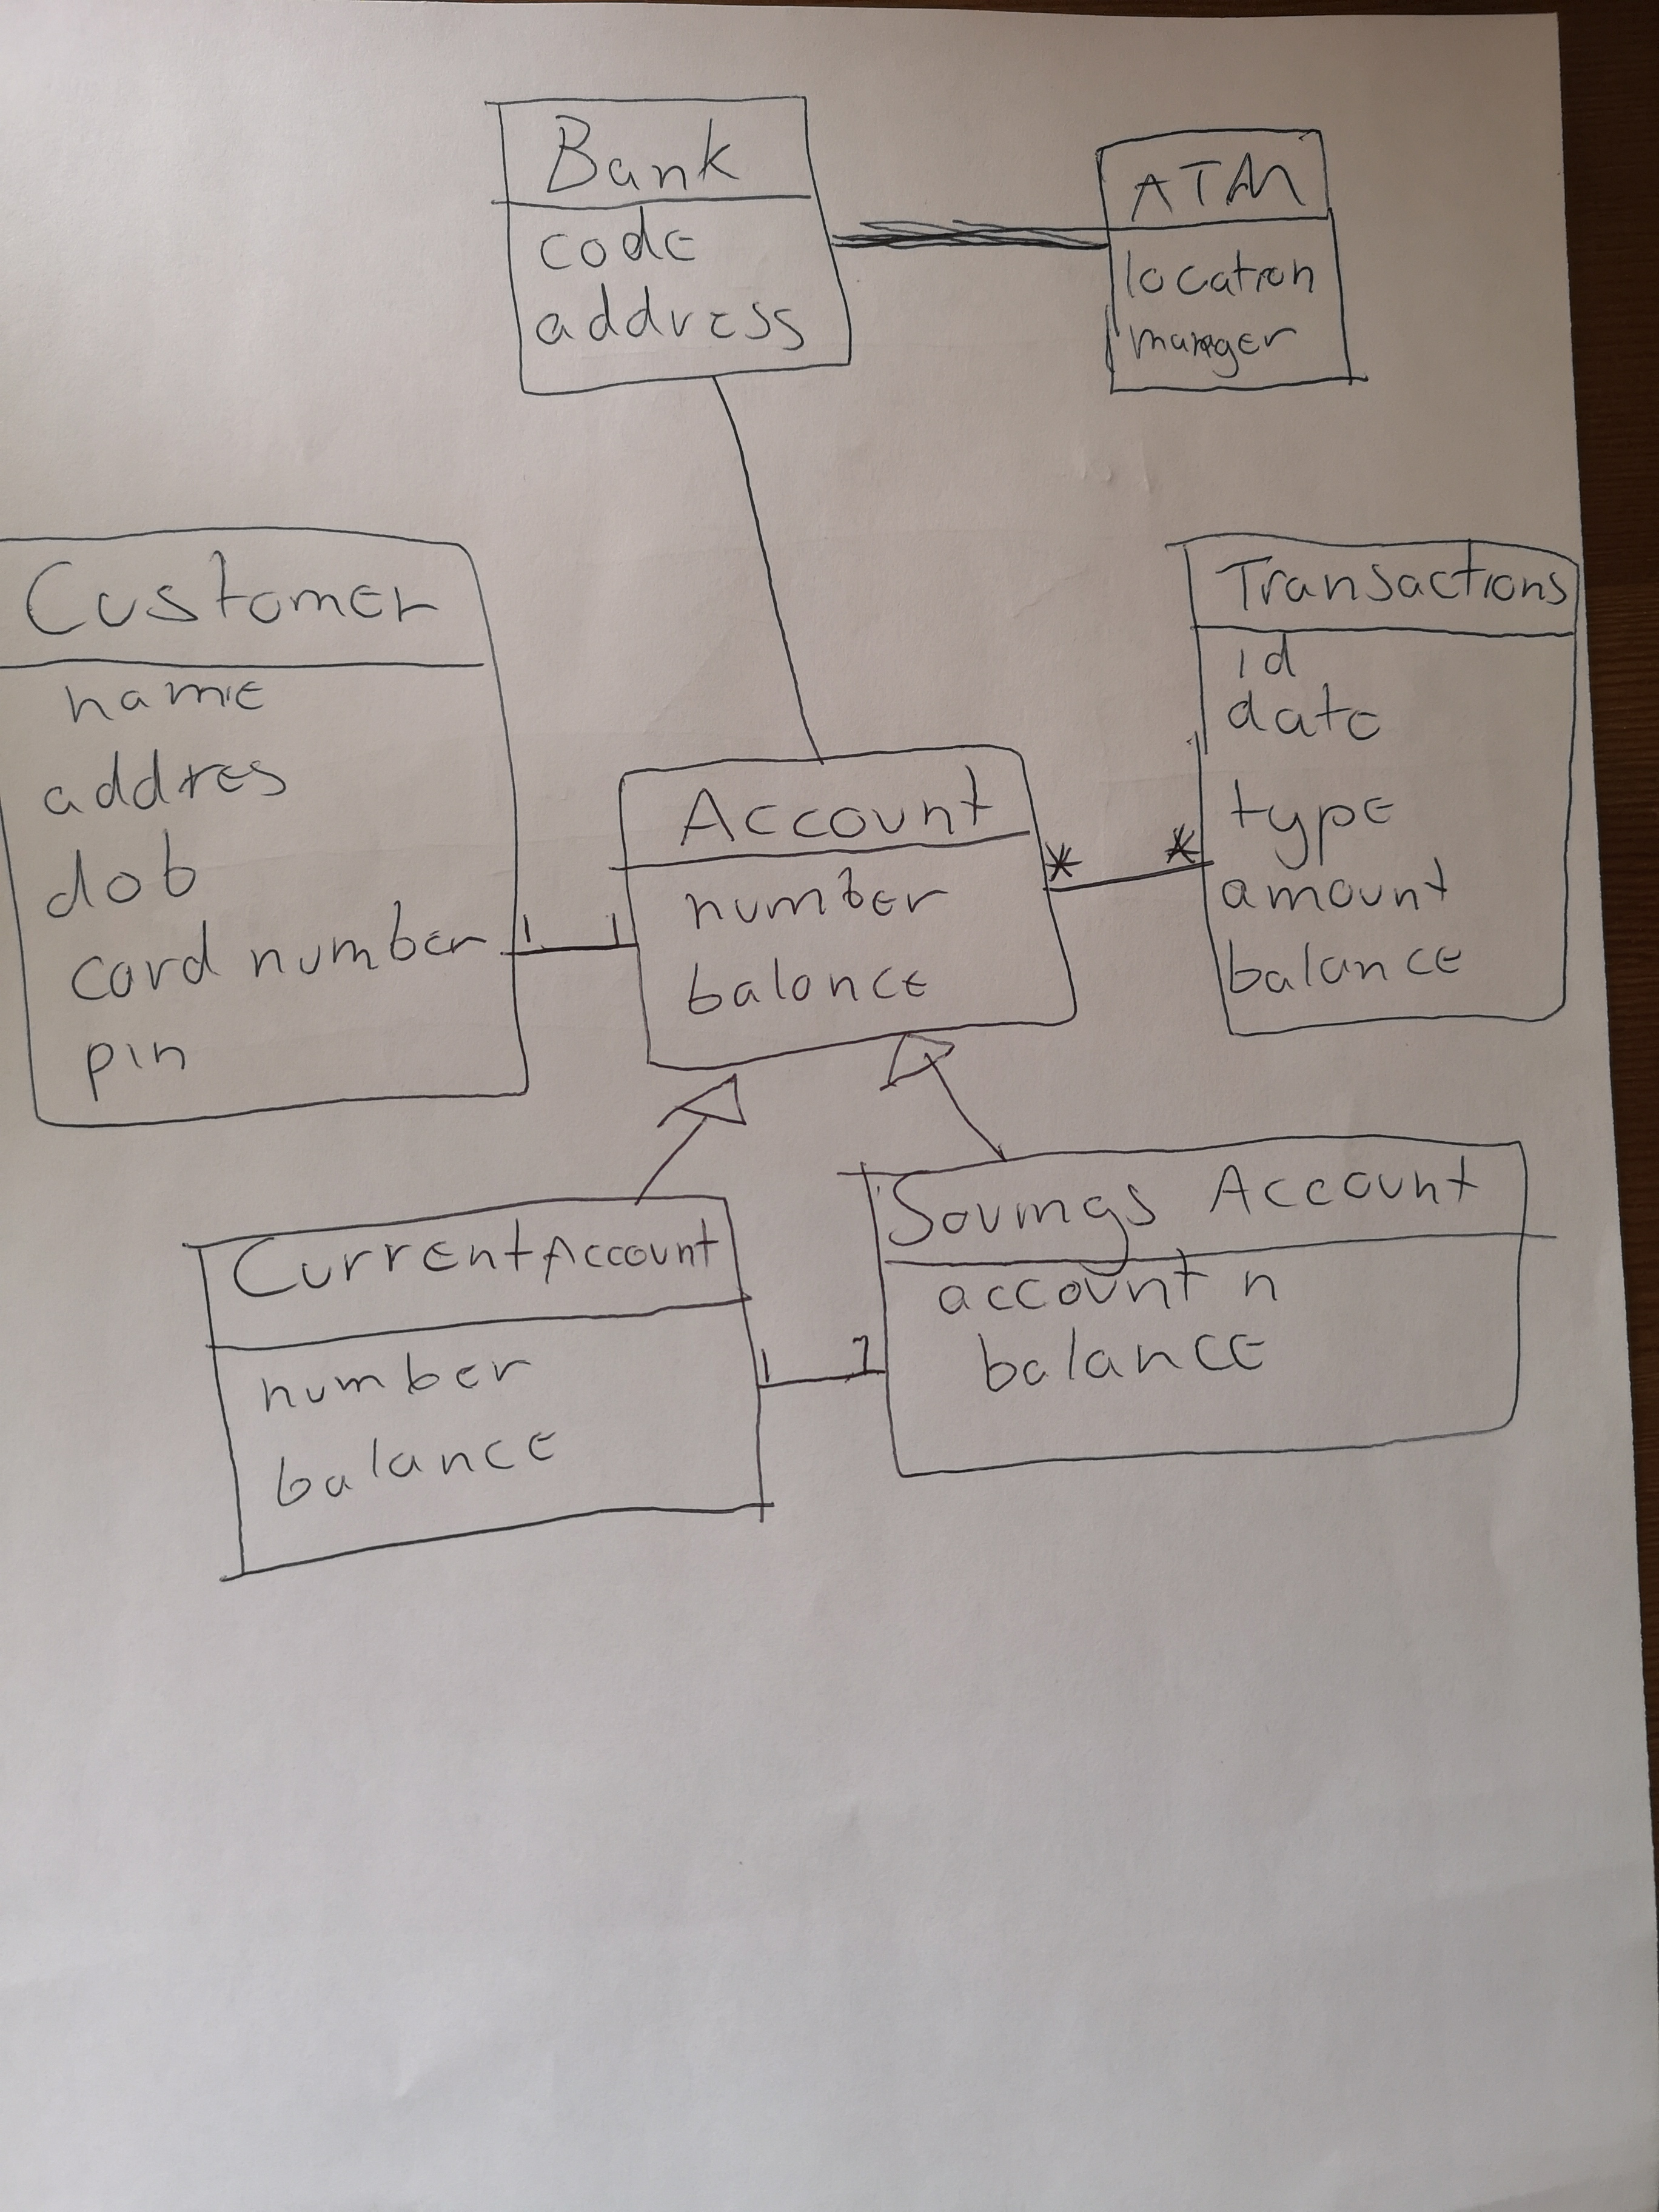association: (692, 372, 839, 758), (820, 193, 1110, 273), (1040, 802, 1212, 920), (733, 1335, 906, 1415), (500, 898, 647, 978)
class attributes: (5, 512, 535, 1141), (858, 1121, 1553, 1486), (191, 1198, 772, 1587), (1177, 515, 1589, 1045), (609, 745, 1084, 1074), (484, 72, 864, 400), (1081, 110, 1387, 407)
inheritance: (861, 1022, 1043, 1179), (618, 1054, 759, 1224)
